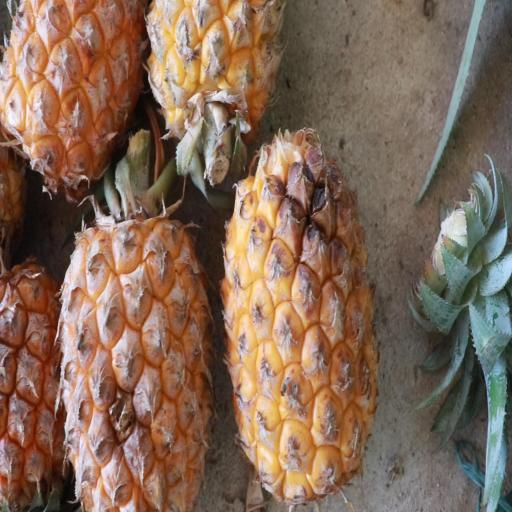Pineapple - v8 v1: (217, 125, 381, 505), (58, 163, 220, 511), (1, 2, 156, 189), (144, 0, 284, 156), (0, 242, 75, 509)
